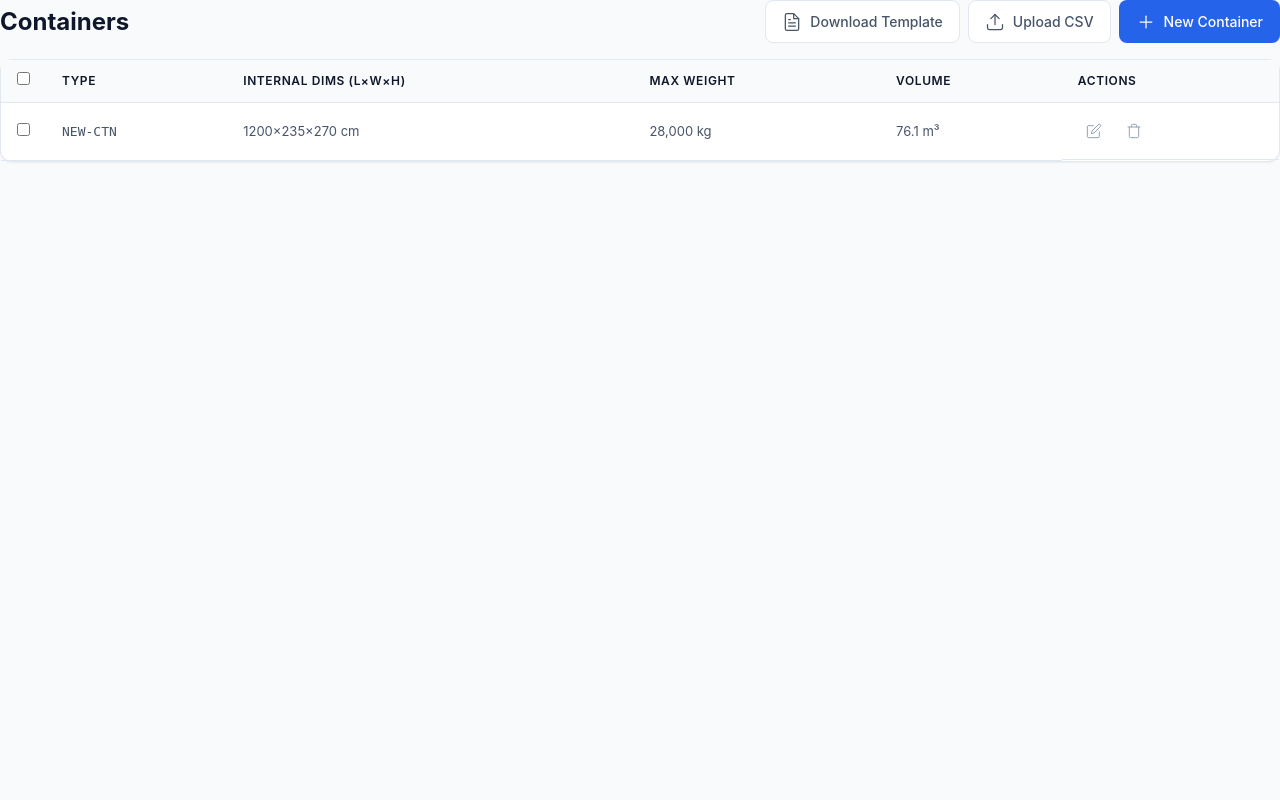
+ New Modal (Section 6.4 - FE-17 to FE-19) › Container + New Modal › FE-19: Container modal closes and new record selected on success
Click the button "New Container".
click(1199, 22)  # box [1119,0,1279,43]
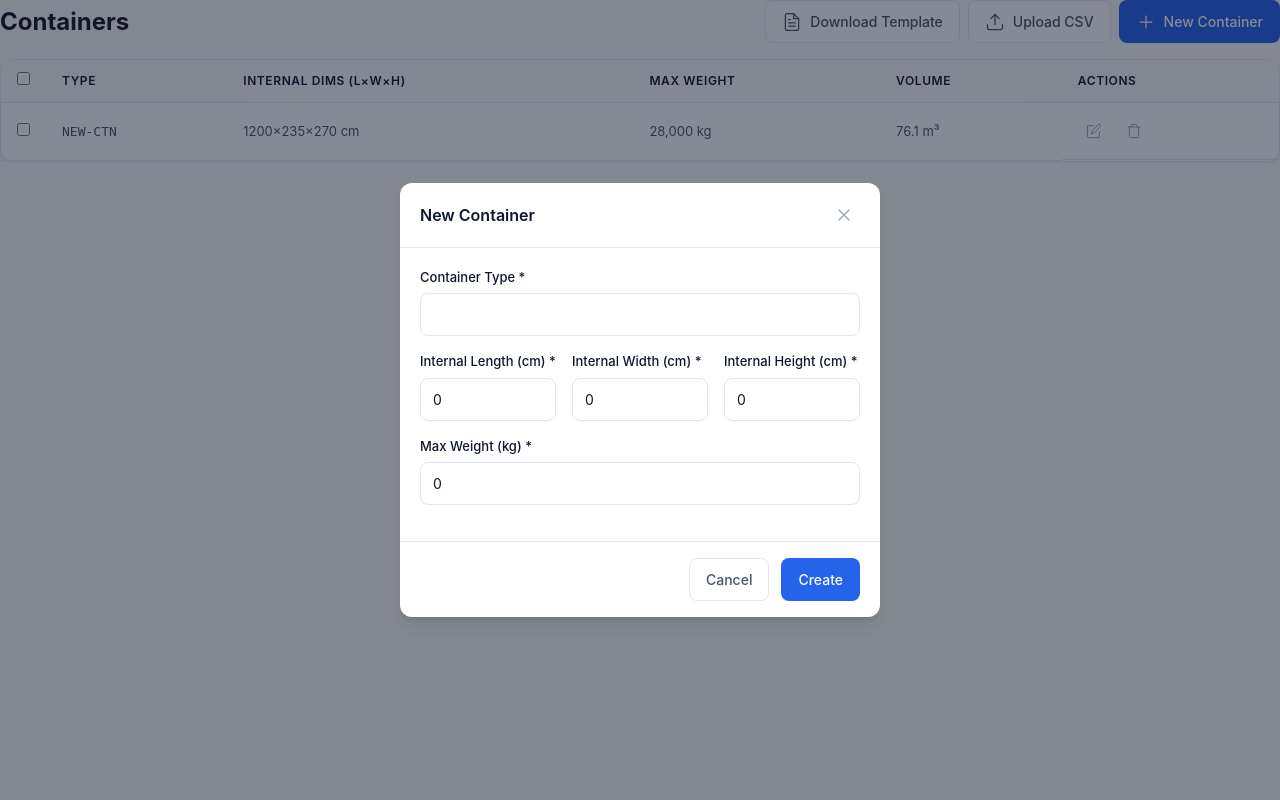
Check: the dialog is shown, box [400,183,880,617]
Type "NEW-CTN" into the field labelled "Container Type *".
click(640, 315); type("NEW-CTN")  # box [420,293,860,336]
Replace the text in the number field labelled "Internal Length (cm) *" with "1200" at [488, 399], box [420,378,556,421]
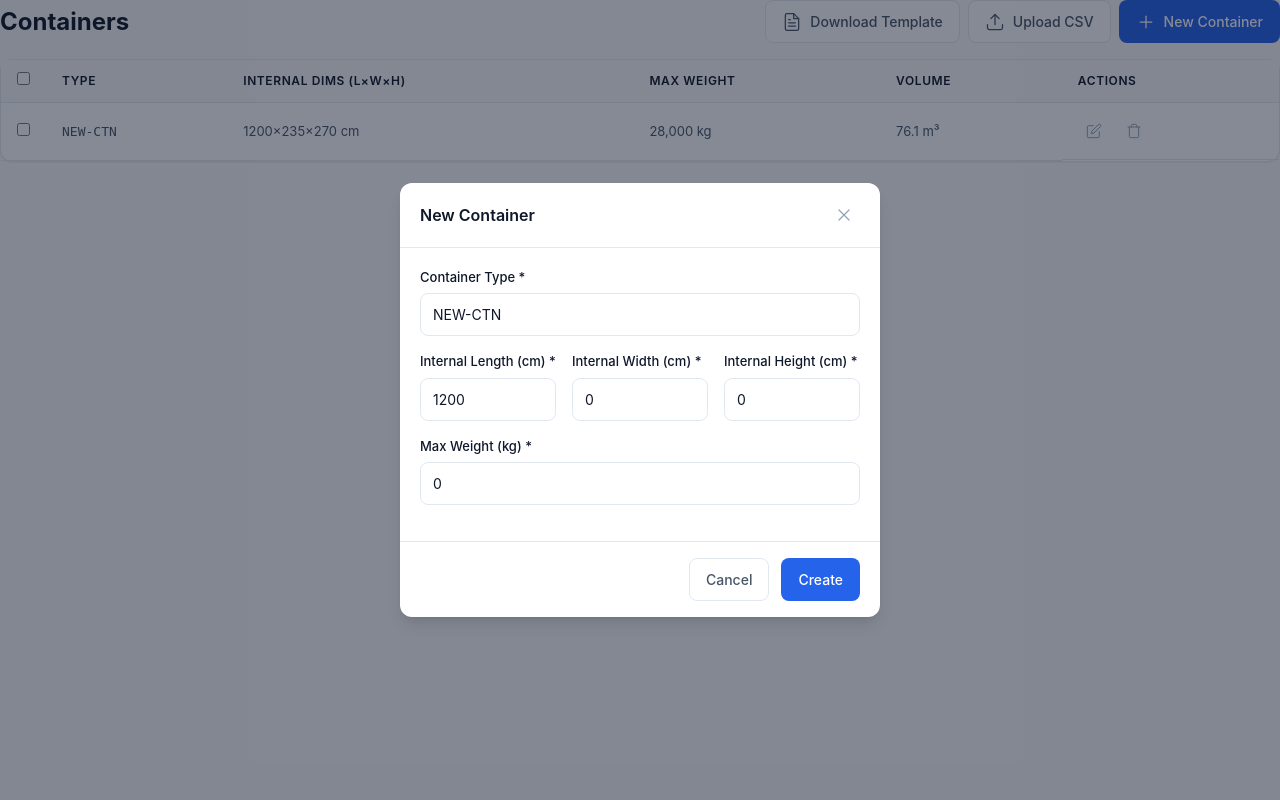
Replace the text in the number field labelled "Internal Width (cm) *" with "235" at [640, 399], box [572,378,708,421]
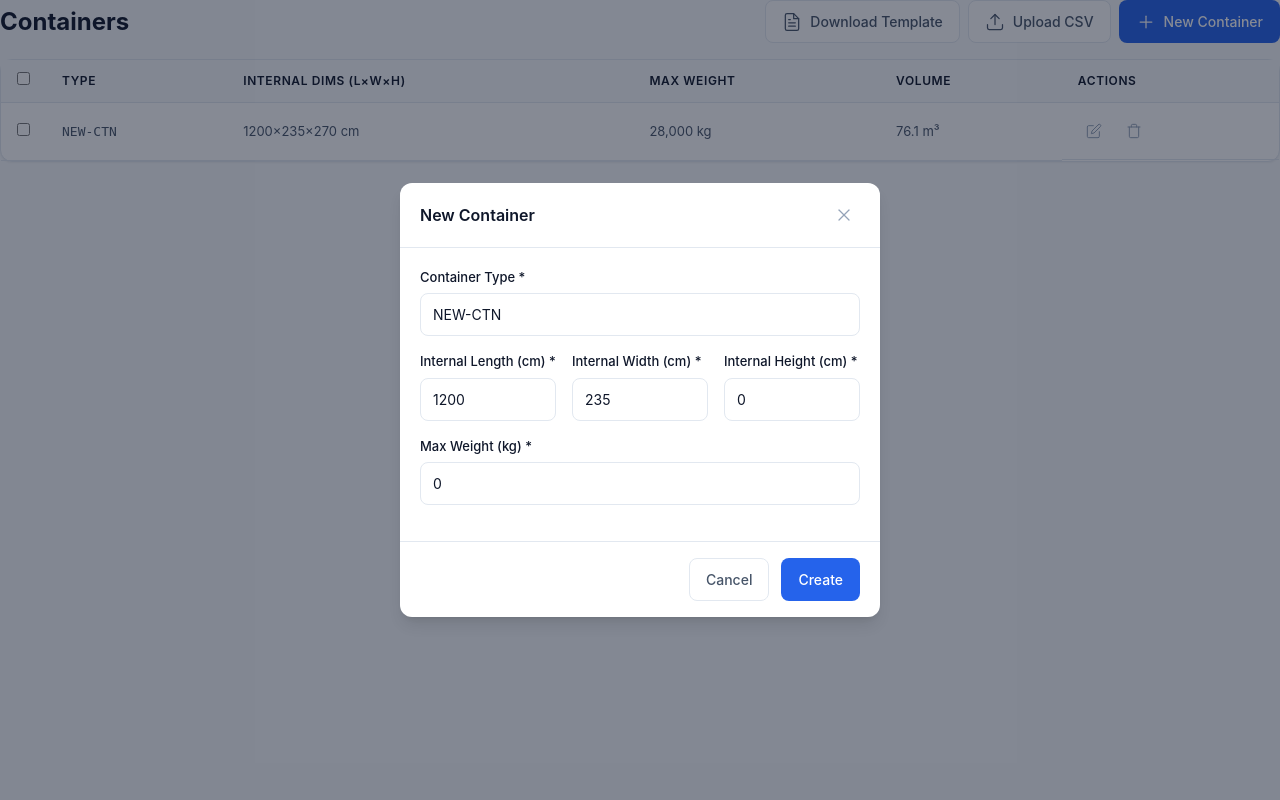
Replace the text in the number field labelled "Internal Height (cm) *" with "270" at [792, 399], box [724,378,860,421]
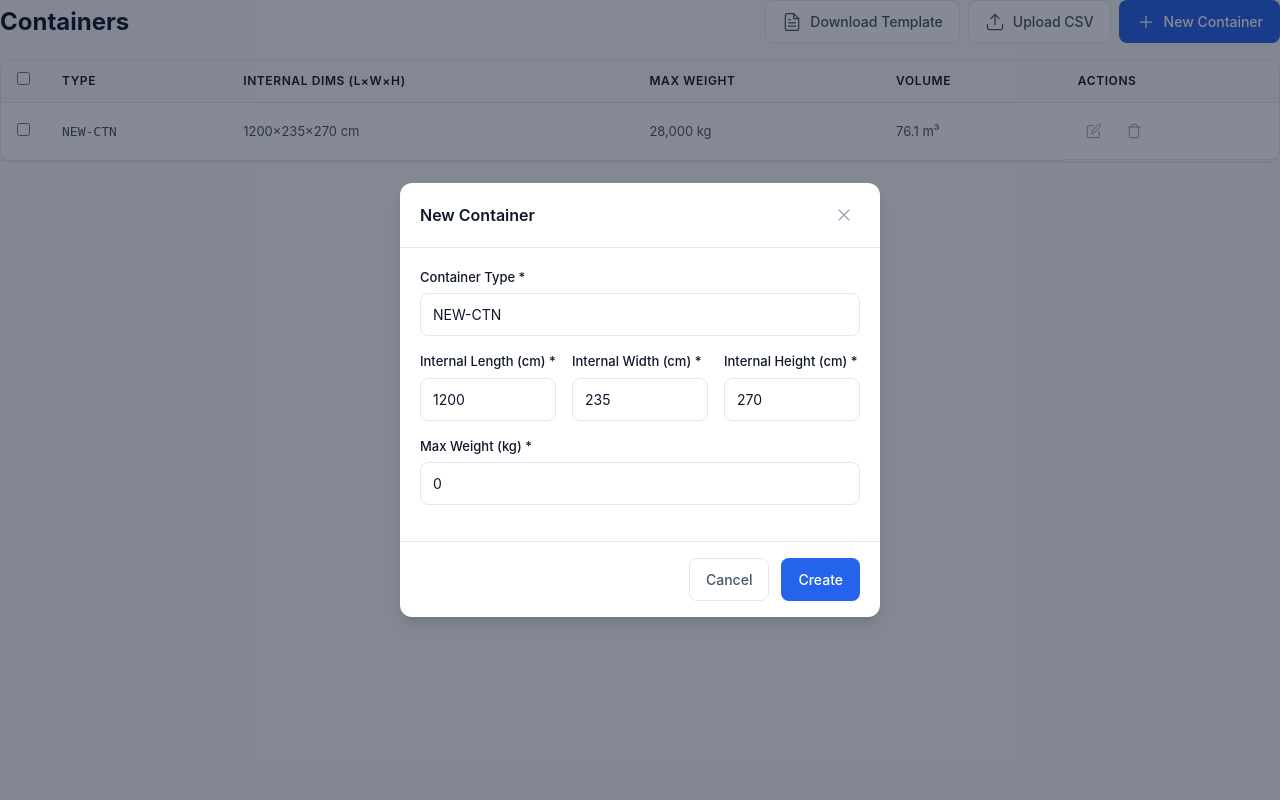
Replace the text in the number field labelled "Max Weight (kg) *" with "28000" at [640, 484], box [420,462,860,505]
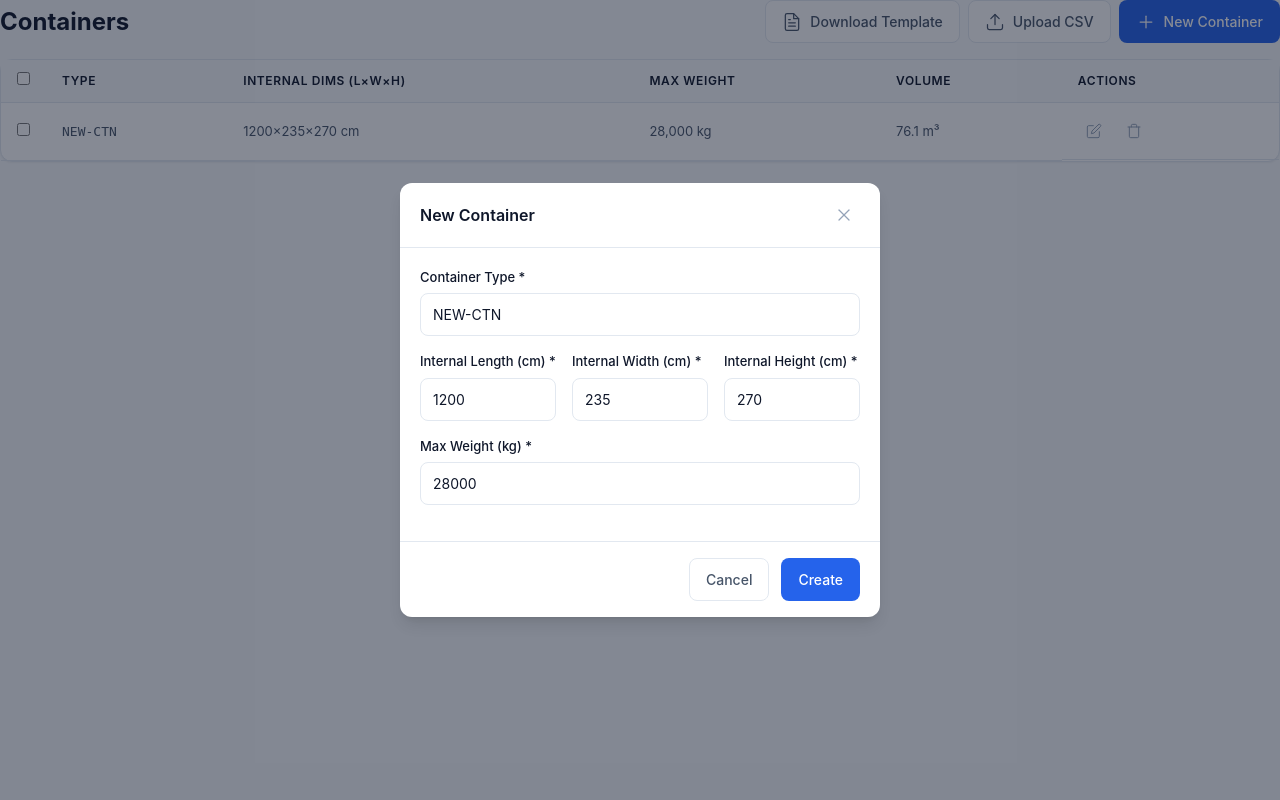
Click the button "Create".
click(821, 580)  # box [781,558,860,601]
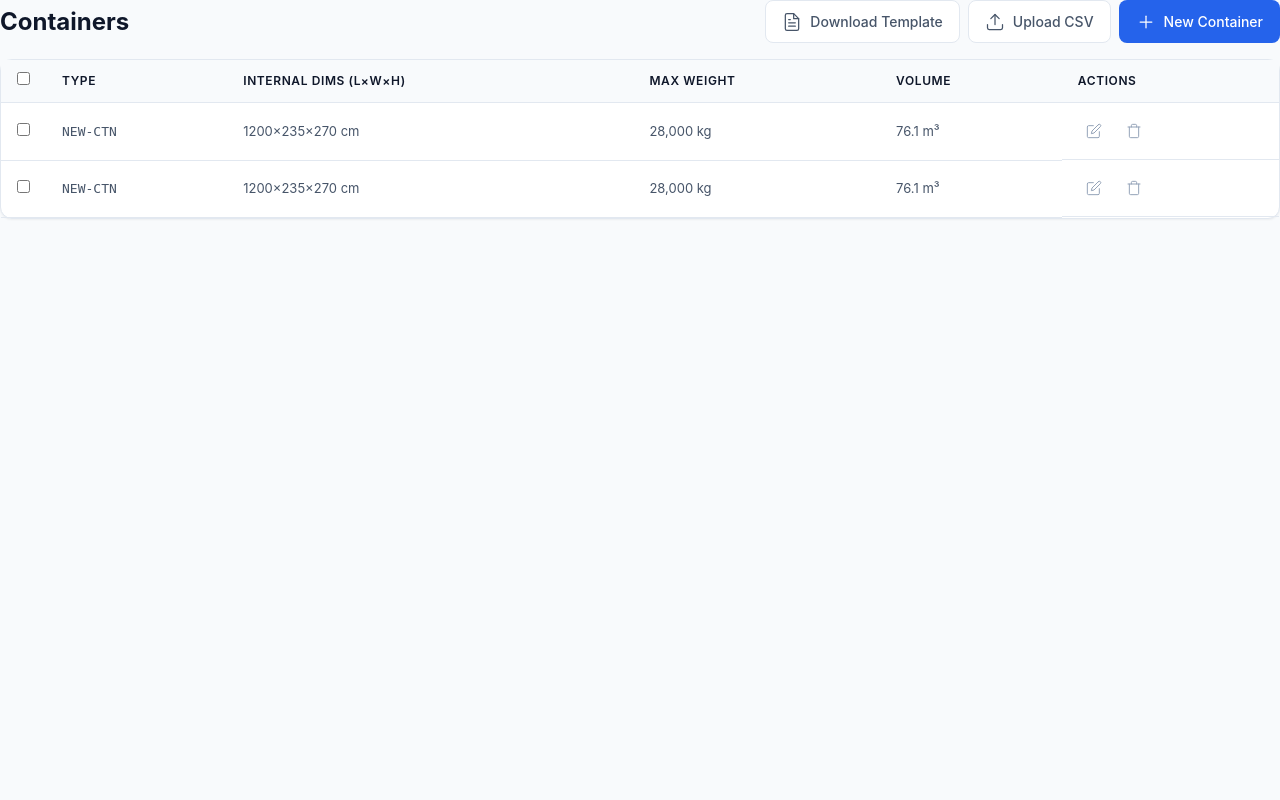
Check: the 1st text "NEW-CTN" is shown, box [46,102,227,160]
Check: the dialog is gone
